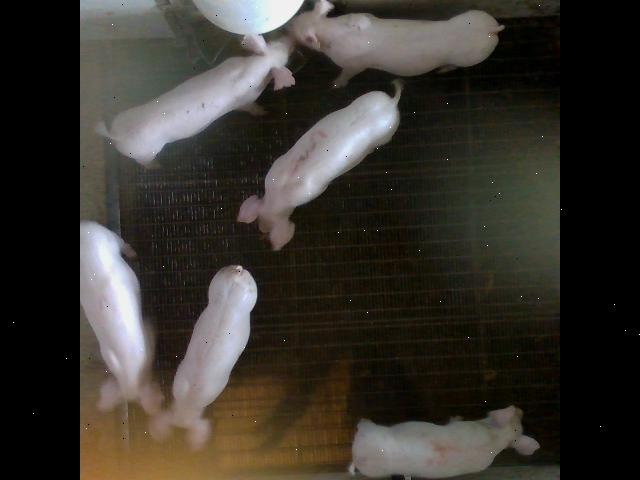pig-3: (238, 79, 400, 249)
pig-4: (352, 405, 540, 476)
